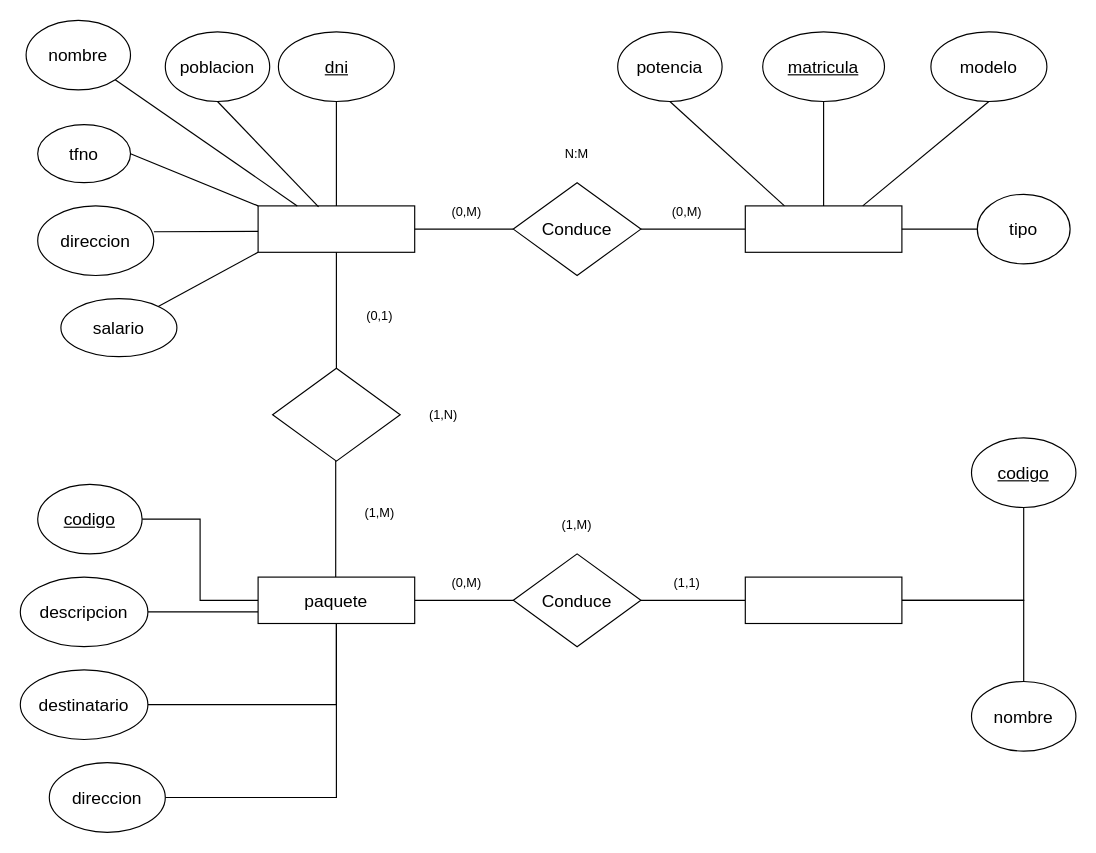
Image size: 1096x853. Some labels were removed from this diagram. Each missing label, with the centre of its shape:
"Camion" belongs at pixel 823 228.
"Camionero" belongs at pixel 336 228.
"Distribuye" belongs at pixel 335 414.
"provincia" belongs at pixel 823 600.
